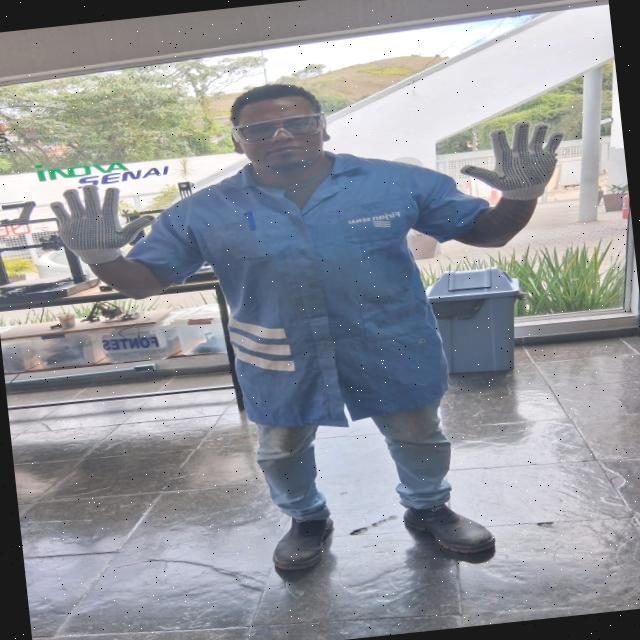BOTA: (266, 505, 351, 573), (394, 500, 505, 552)
JALECO: (115, 147, 497, 427)
LUVA: (451, 118, 571, 204), (40, 185, 164, 266)
OCULOS: (226, 109, 330, 148)
